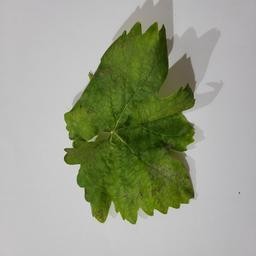Powdery-Mildew: (140, 154, 177, 188), (136, 99, 173, 128), (128, 48, 153, 82), (77, 101, 103, 133), (117, 185, 137, 224)
